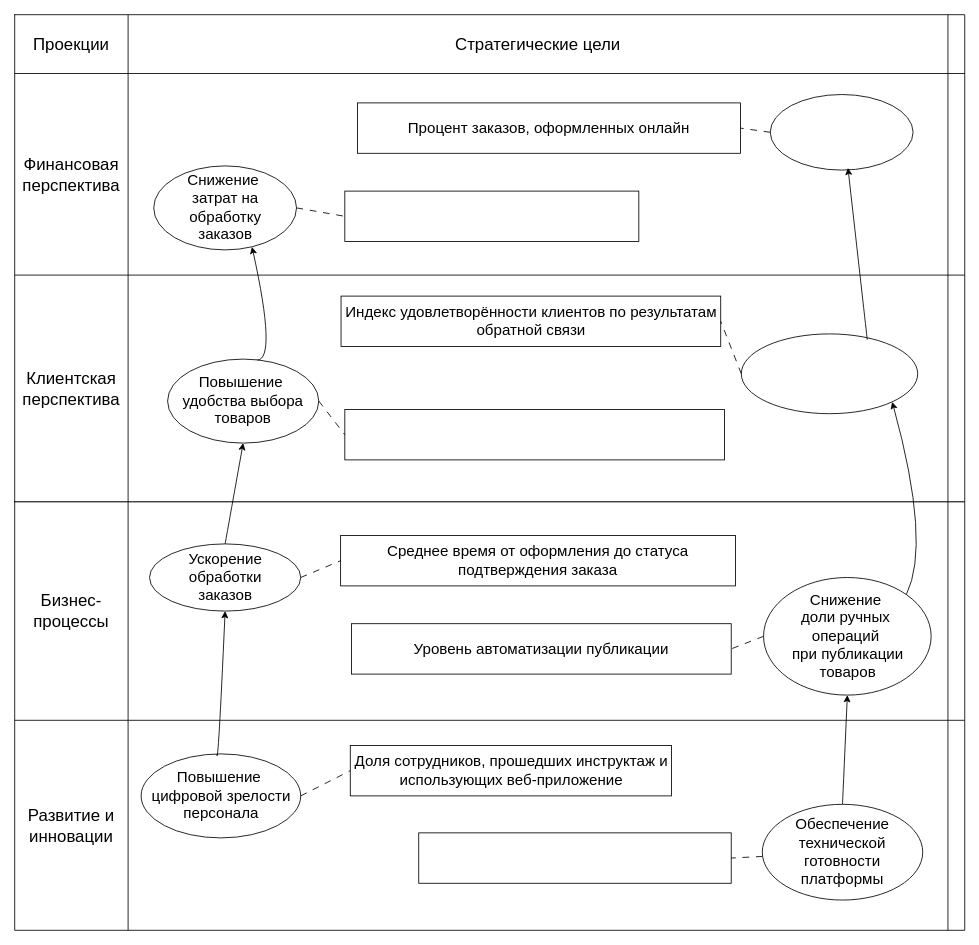
Some shapes in this 979 by 945 pixel diagram are drawn without their labels. The centre of each missing label's shape, as x and y in pixels:
Процент карточек товара с фото, описанием и актуальным наличием: the point at 534,434
Рост доли онлайн-продаж: the point at 841,132
Себестоимость обработки одного заказа: the point at 491,216
Увеличение удовлетворённости клиентов: the point at 829,373
Уровень доступности веб-приложение: the point at 574,857
